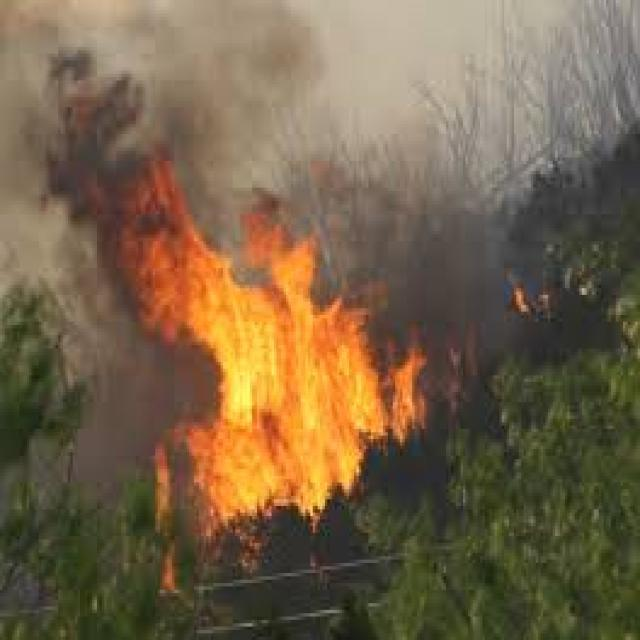Fire: (100, 150, 456, 546)
Smoke: (175, 1, 544, 320), (5, 4, 146, 328)
